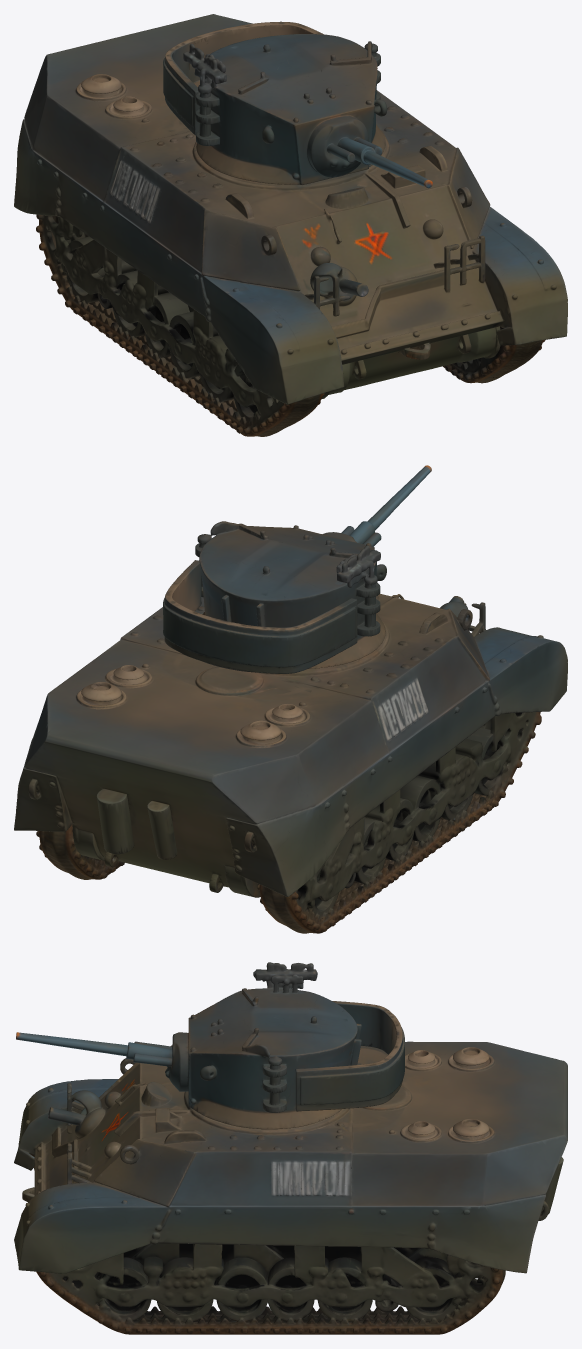
3 views of the same model, one above another, from view 1: azimuth 30°, elevation 25°; view 2: azimuth 150°, elevation 25°; view 3: azimuth 270°, elevation 25° (orthographic). The views are drawn at different scales.
Parts seen in each view (by area): view 1: texture_pbr_v128; view 2: texture_pbr_v128; view 3: texture_pbr_v128.
Part boxes in pixels (box(x1,y1,x2,y2)): texture_pbr_v128: box(14, 14, 567, 436); texture_pbr_v128: box(14, 465, 567, 933); texture_pbr_v128: box(14, 962, 567, 1334).
Bounding box in the file's own units: 0.5889 × 0.5928 × 1.04.
1 material, 1 textured.
